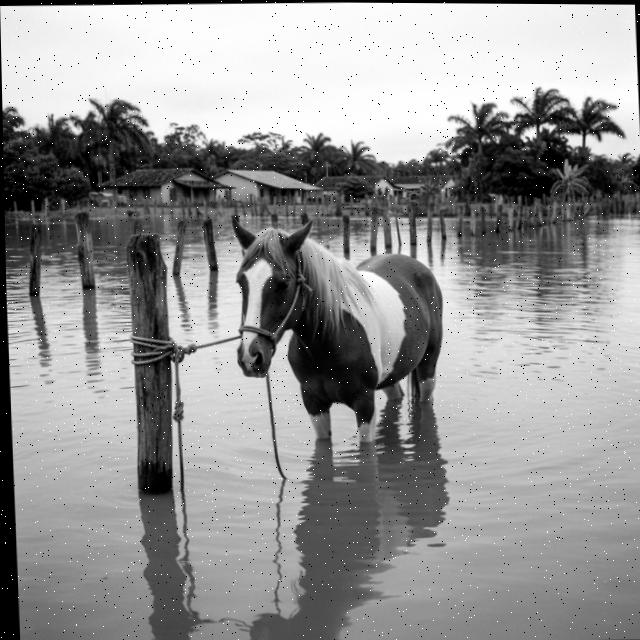horse: (219, 208, 458, 459)
